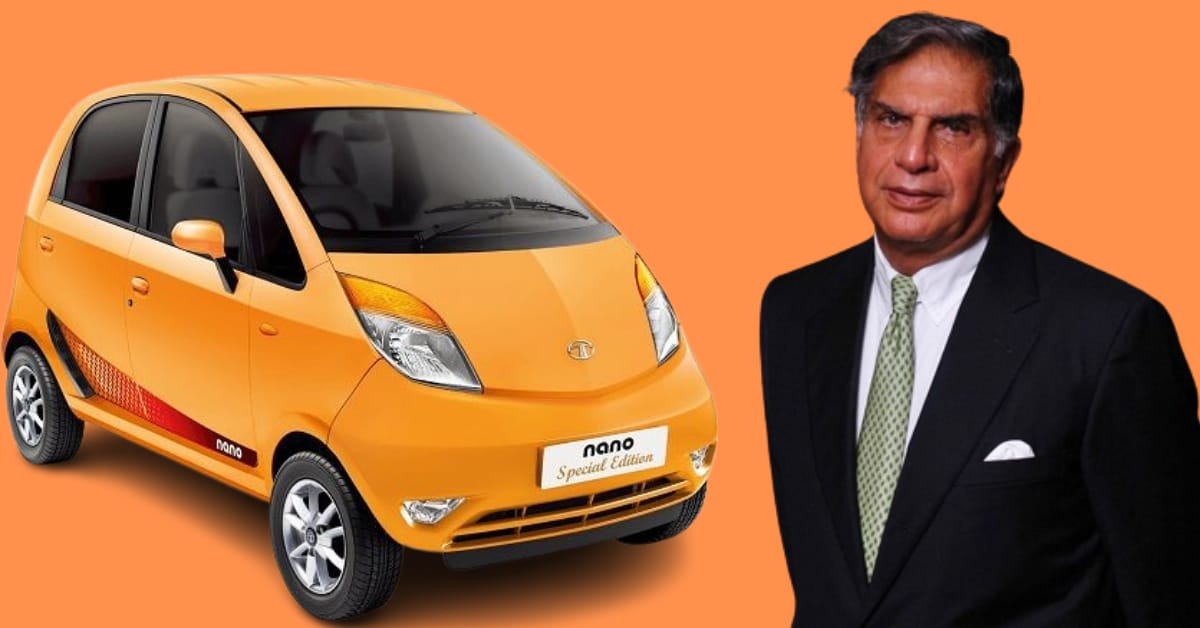Nano: (5, 70, 718, 628)
